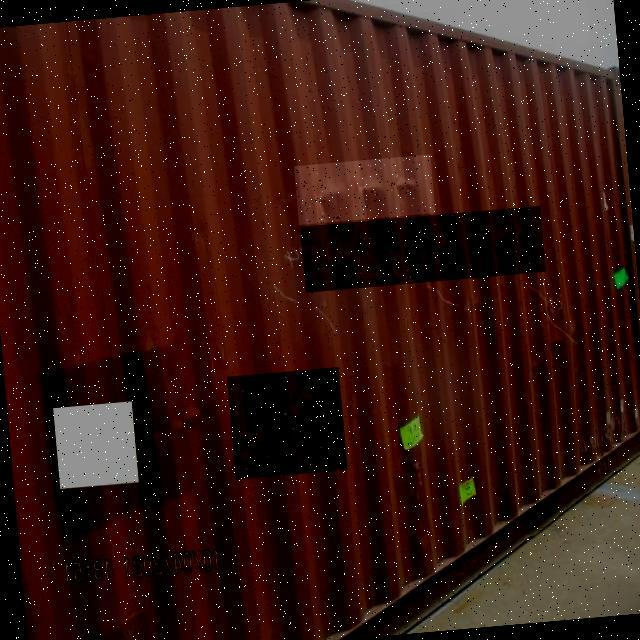Dent: (300, 206, 546, 295), (294, 154, 436, 225)
Minor-Dent: (227, 367, 348, 479)
